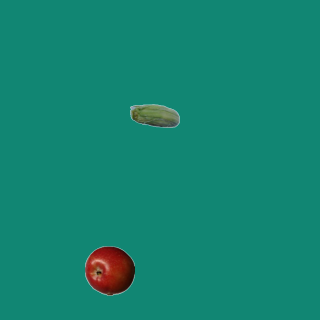Apple Braeburn: (84, 245, 134, 295)
Corn Husk: (129, 92, 179, 142)
